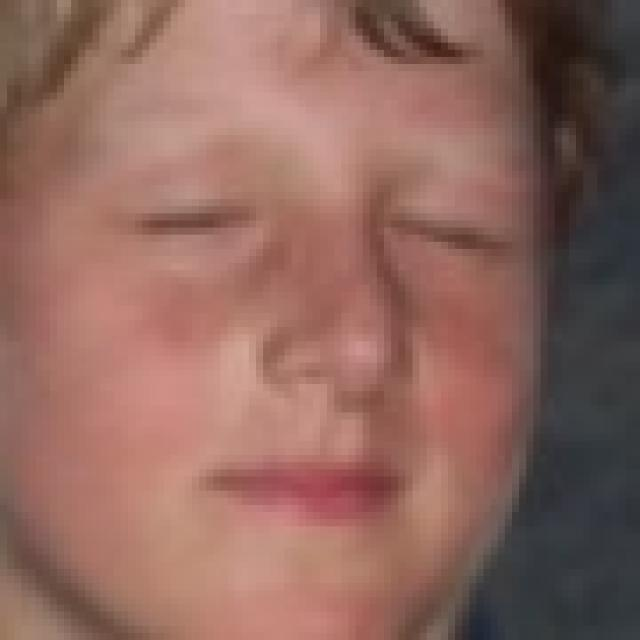close: (78, 111, 283, 314), (365, 116, 556, 322)
